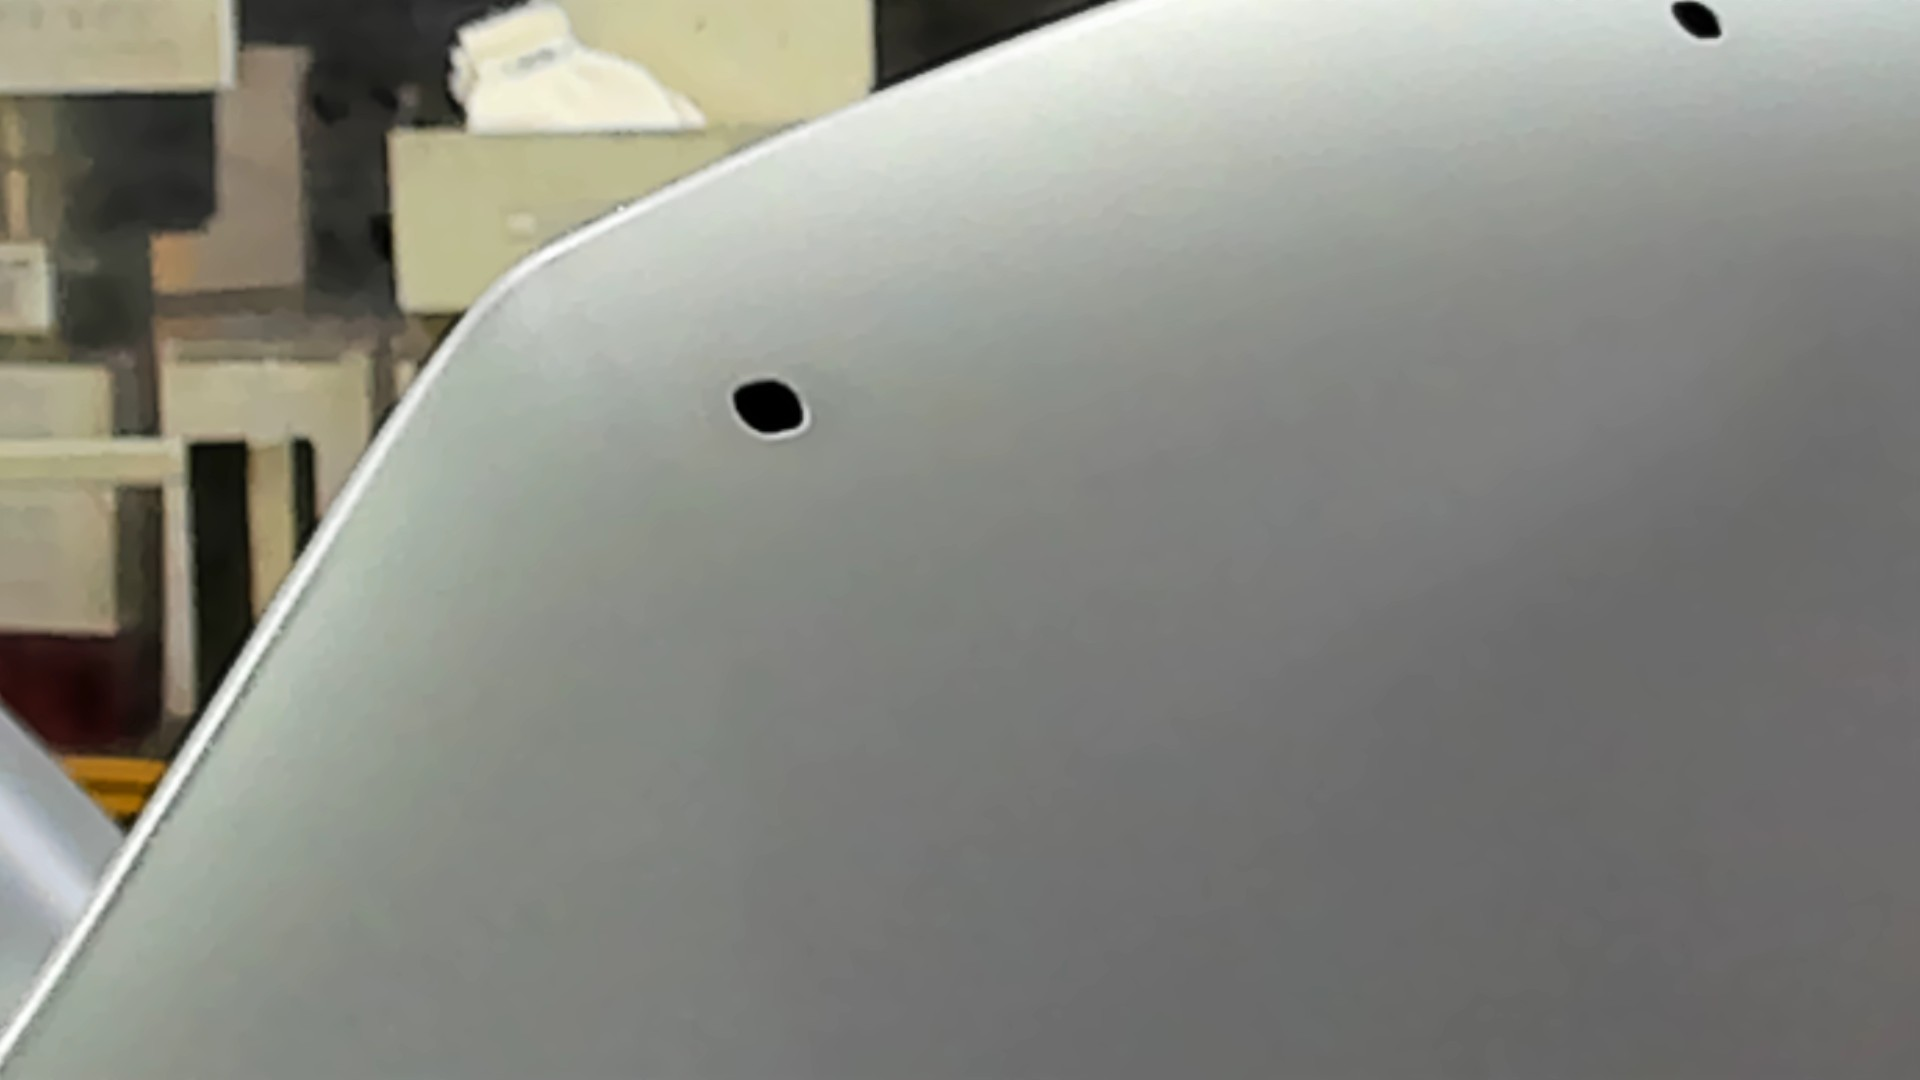amorfo: (721, 376, 815, 444), (1665, 1, 1731, 45)
